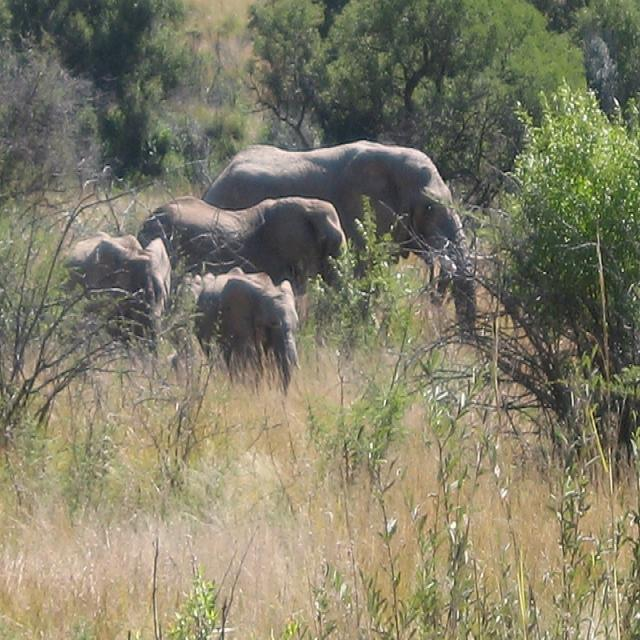Elephant: (201, 139, 477, 340), (137, 193, 349, 327), (169, 267, 301, 396), (60, 231, 172, 369)
